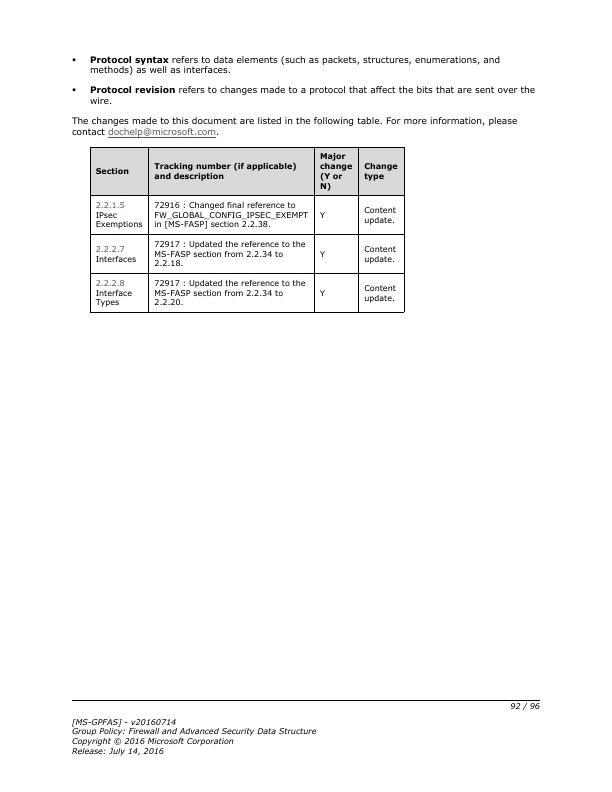table: (87, 146, 407, 313)
text: (69, 113, 522, 140), (69, 713, 321, 757), (87, 83, 536, 106), (85, 53, 502, 76)
